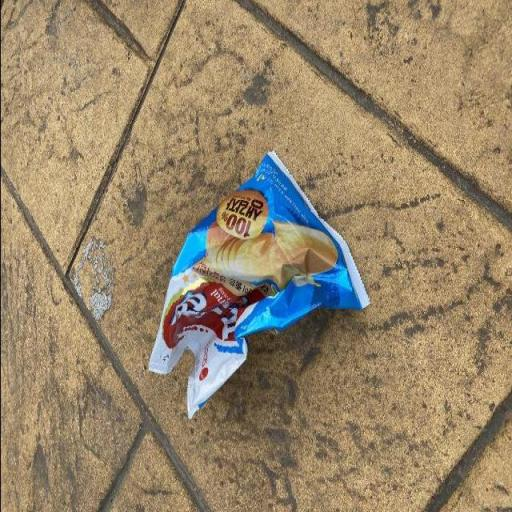plastic-bag: (145, 145, 373, 423)
